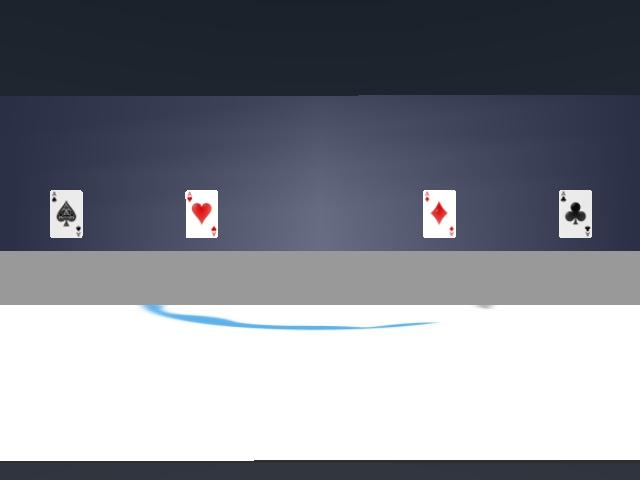club: (558, 190, 592, 237)
diamond: (422, 190, 456, 237)
heart: (185, 190, 218, 237)
spade: (50, 190, 84, 238)
